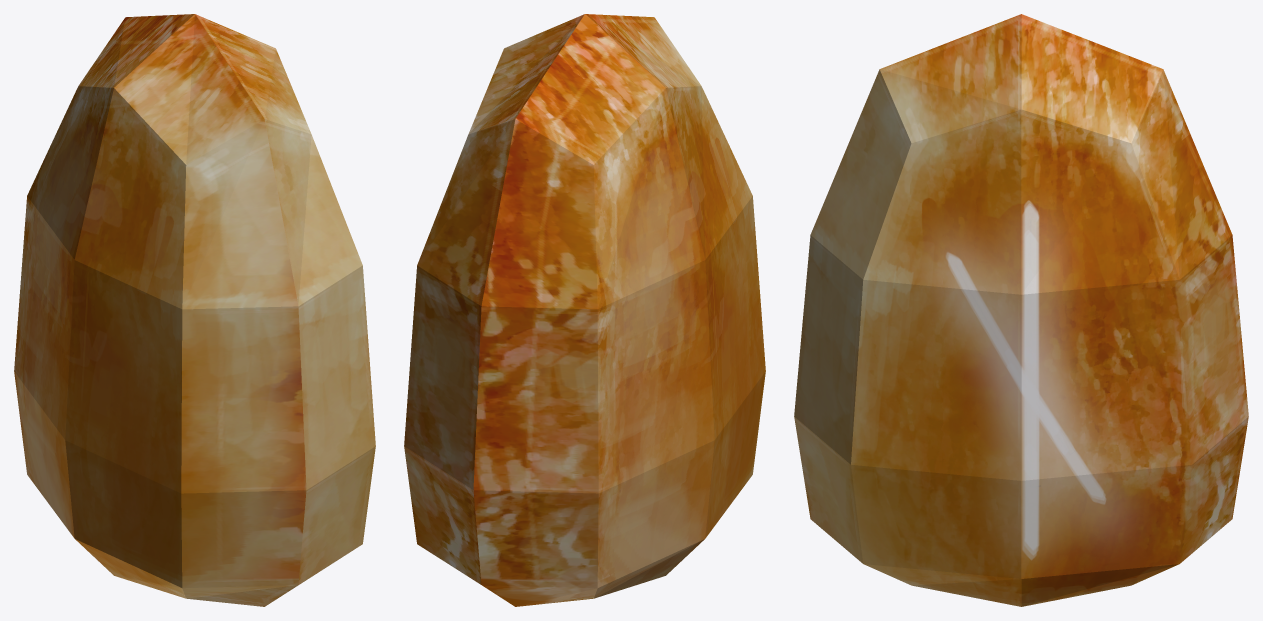
The model's file is courage_pedra.fbx.
3 renders of one model, left to right at view 1: azimuth 30°, elevation 25°; view 2: azimuth 150°, elevation 25°; view 3: azimuth 270°, elevation 25°, orthographic.
Parts seen in each view (by area): view 1: courage_pedra; view 2: courage_pedra; view 3: courage_pedra.
Boxes of the visible parts, box(x1,y1,x2,y2) form: courage_pedra: box(14, 14, 375, 606); courage_pedra: box(404, 14, 765, 606); courage_pedra: box(794, 14, 1248, 606).
Size of the model in its own units: 11.76 by 24.16 by 17.51.
